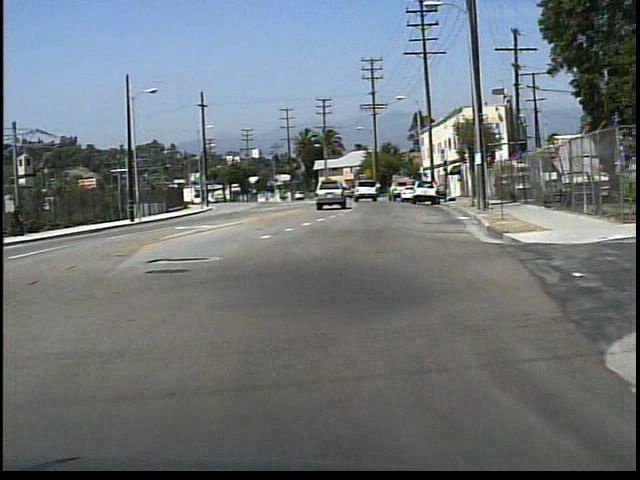person: (14, 201, 32, 240)
